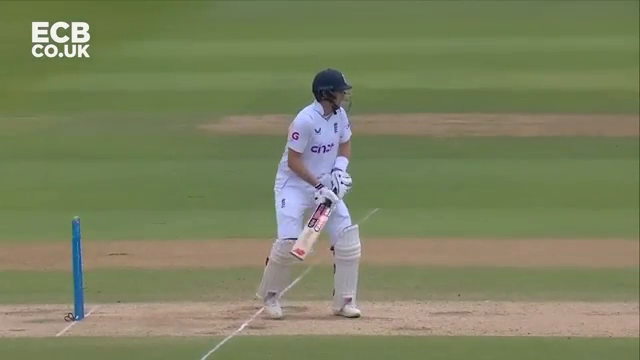batsman: (256, 69, 366, 319)
